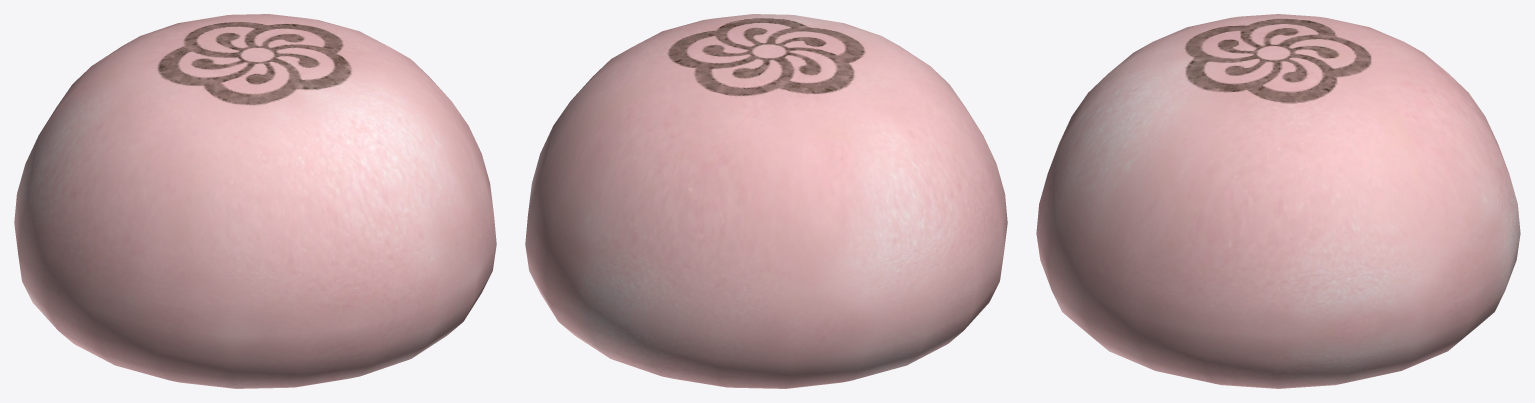
The model's file is bun_A.fbx.
The picture shows the model from 3 angles, left to right: view 1: azimuth 30°, elevation 25°; view 2: azimuth 150°, elevation 25°; view 3: azimuth 270°, elevation 25°; orthographic projection.
Visible parts, largest first — view 1: pSphere3; view 2: pSphere3; view 3: pSphere3.
Boxes of the visible parts, left/top/right/bottom form: pSphere3: left=14, top=14, right=496, bottom=388; pSphere3: left=525, top=14, right=1007, bottom=388; pSphere3: left=1036, top=14, right=1520, bottom=388.
Size of the model in its own units: 4.03 by 2.47 by 4.03.
Materials: 1 (1 with a texture image).
